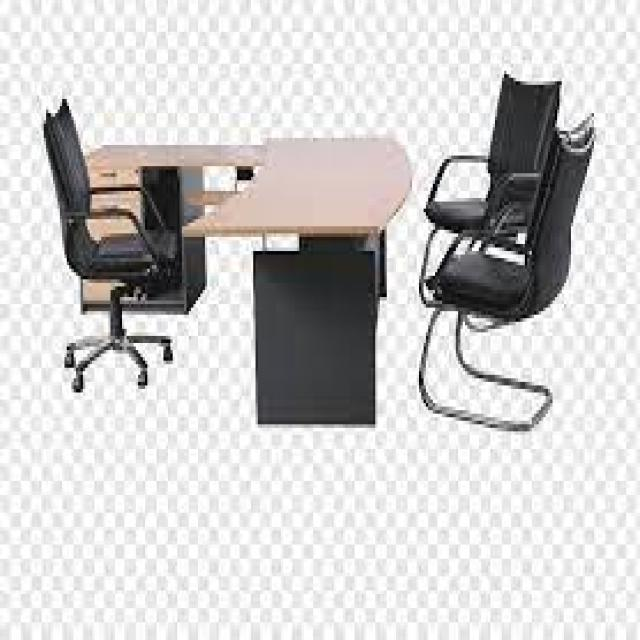chair: (401, 100, 609, 485), (25, 66, 204, 452), (398, 56, 560, 326)
